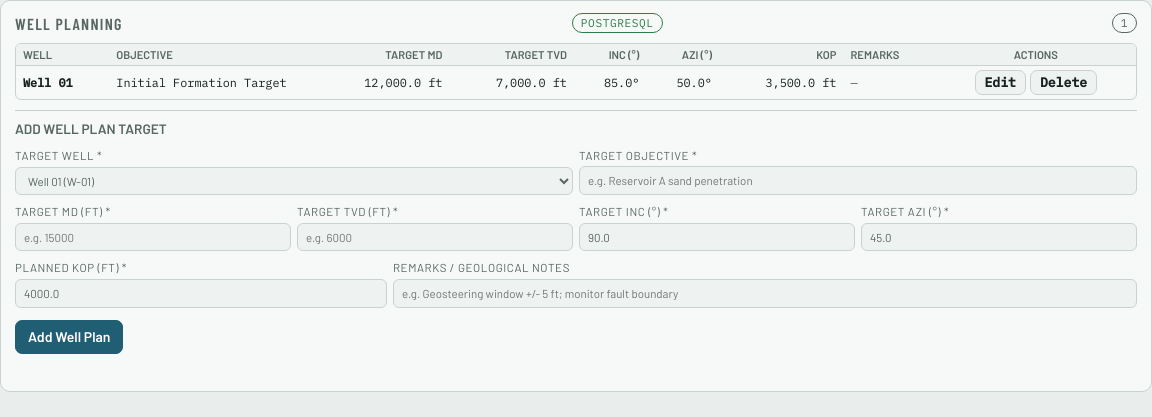
<WellPlanningEditor> › edits an existing well plan
Check: the text "Initial Formation Target" is shown, box [109,66,314,99]
Click the button with aria-label "edit plan for Well 01" at (1000, 82), box [974,70,1026,95]
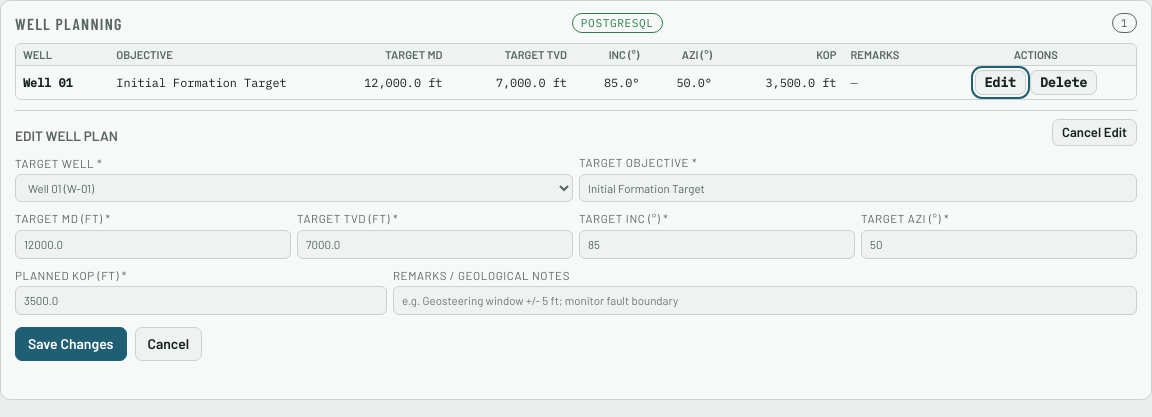
Replace the text in the field labelled "Target Objective *" with "Revised Formation Target" at (858, 188), box [579,174,1137,202]
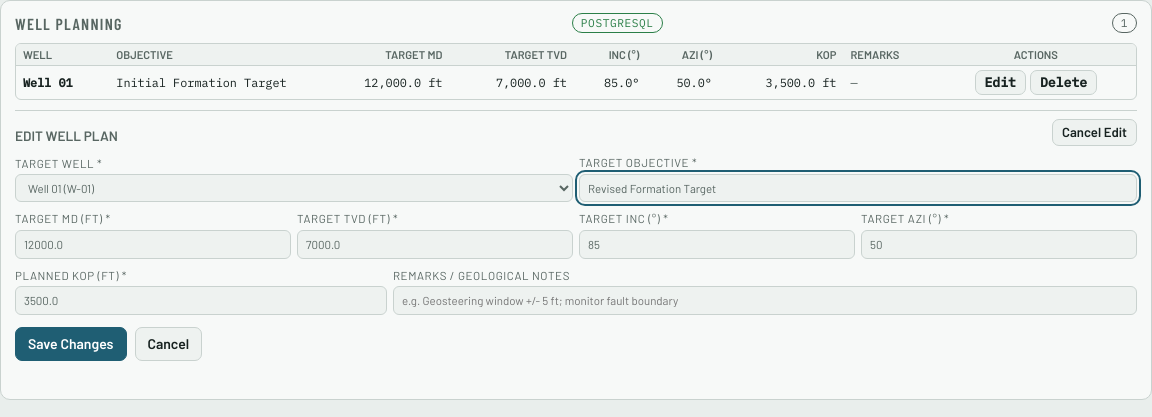
Click the button "Save Changes" at (71, 344), box [15,327,126,362]
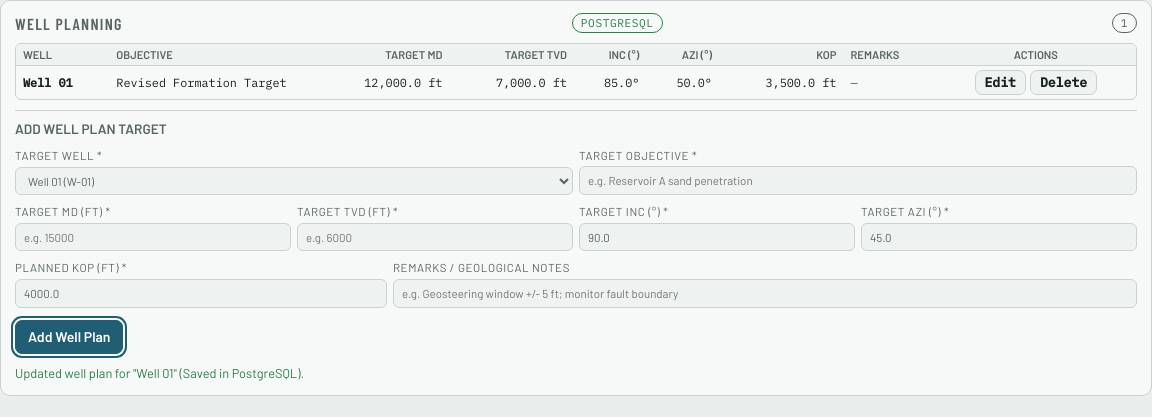
Check: the text "Revised Formation Target" is shown, box [109,66,314,99]
Check: the text "Updated well plan for \"Well 01\" (Saved in PostgreSQL)." is shown, box [15,365,304,381]
